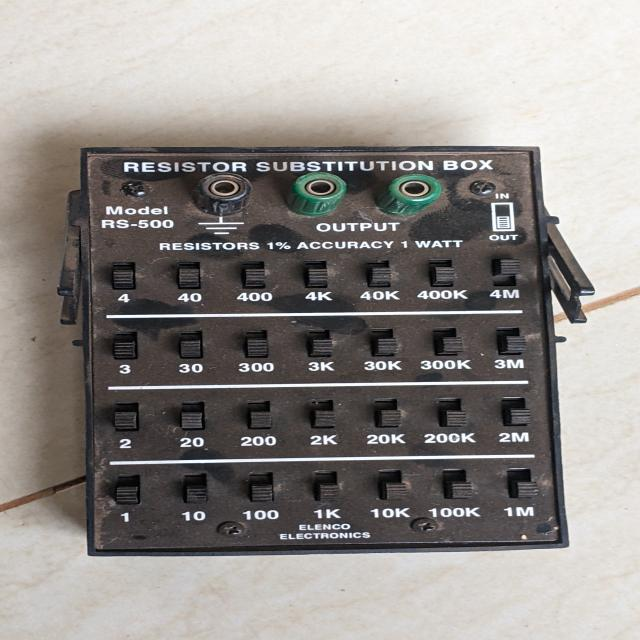Resistor Substitution Box: (50, 137, 584, 569)
